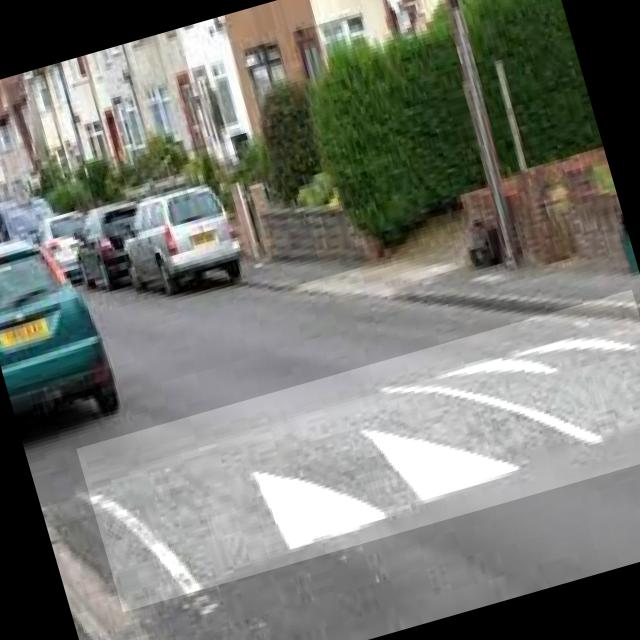bump: (76, 289, 640, 612)
